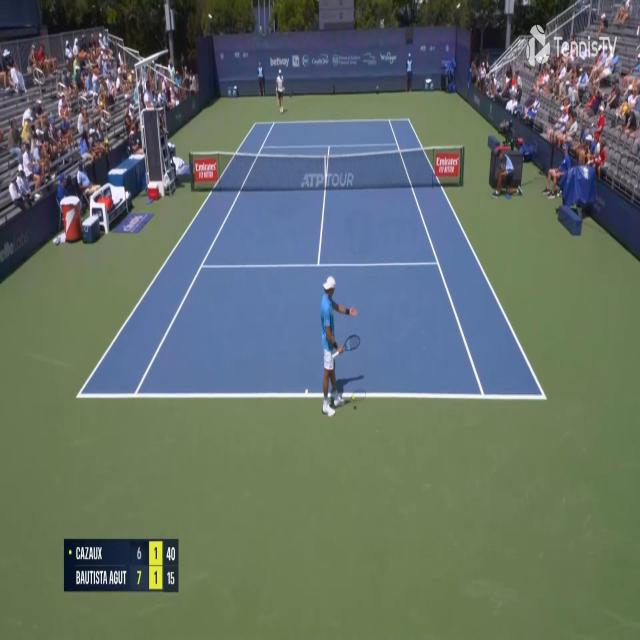tennis-player: (318, 271, 362, 422), (274, 68, 286, 115)
